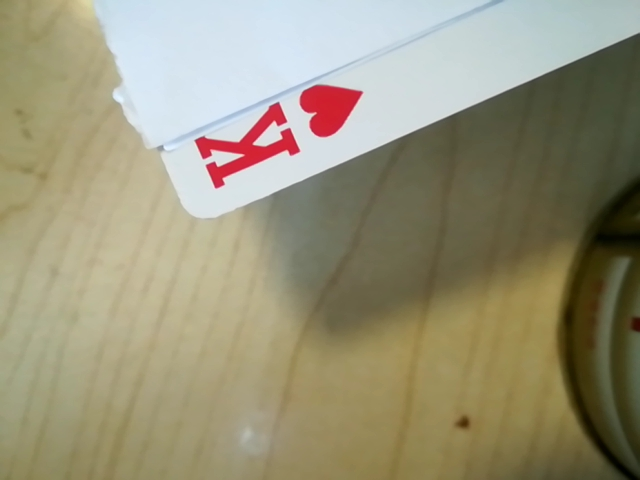hx k: (176, 90, 347, 195)
